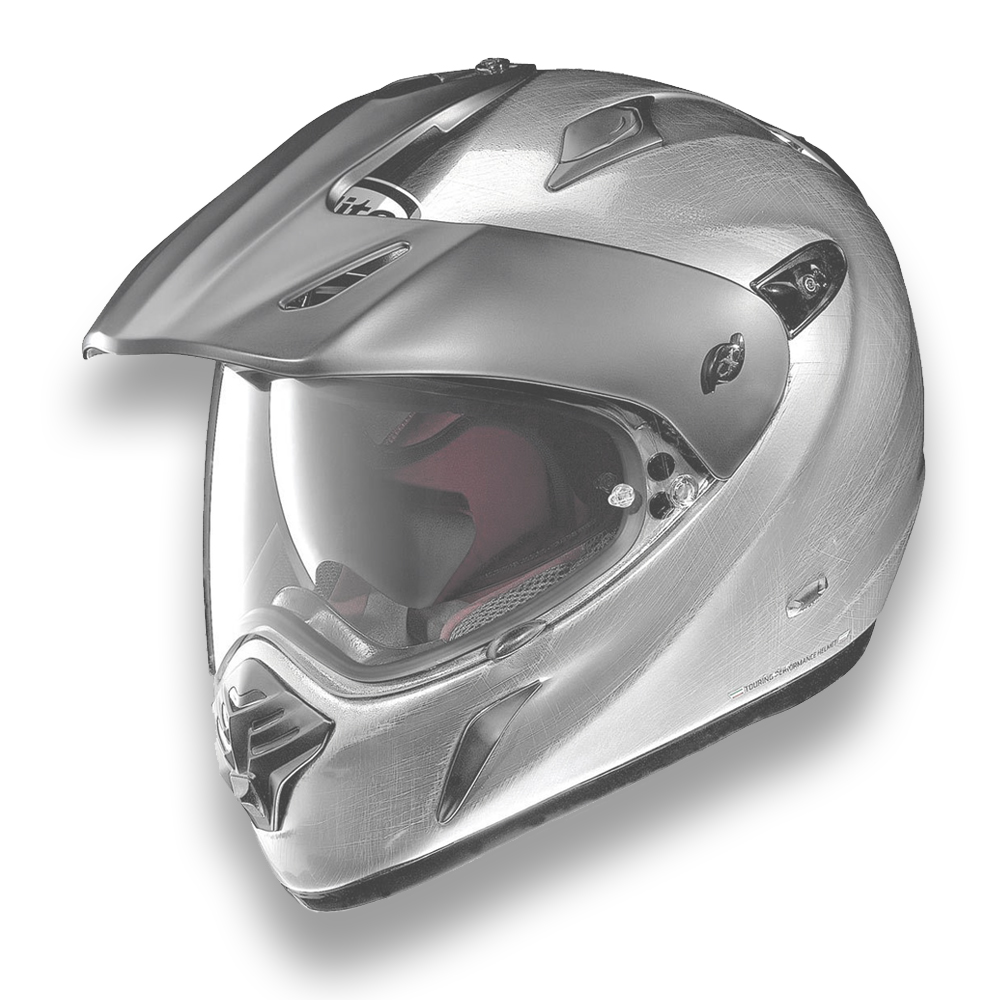with_helmet: (65, 49, 943, 918)
